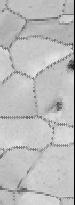good_void: (44, 97, 63, 114), (67, 59, 74, 72), (18, 186, 28, 193)
